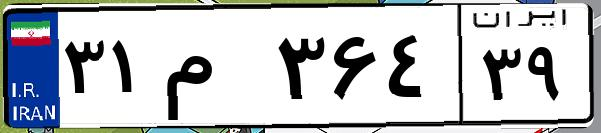1: (110, 28, 158, 98)
3: (270, 28, 330, 110), (57, 26, 110, 100), (475, 38, 525, 113)
4: (385, 28, 445, 110)
6: (330, 28, 385, 110)
9: (525, 38, 570, 115)
م: (158, 20, 270, 120)
